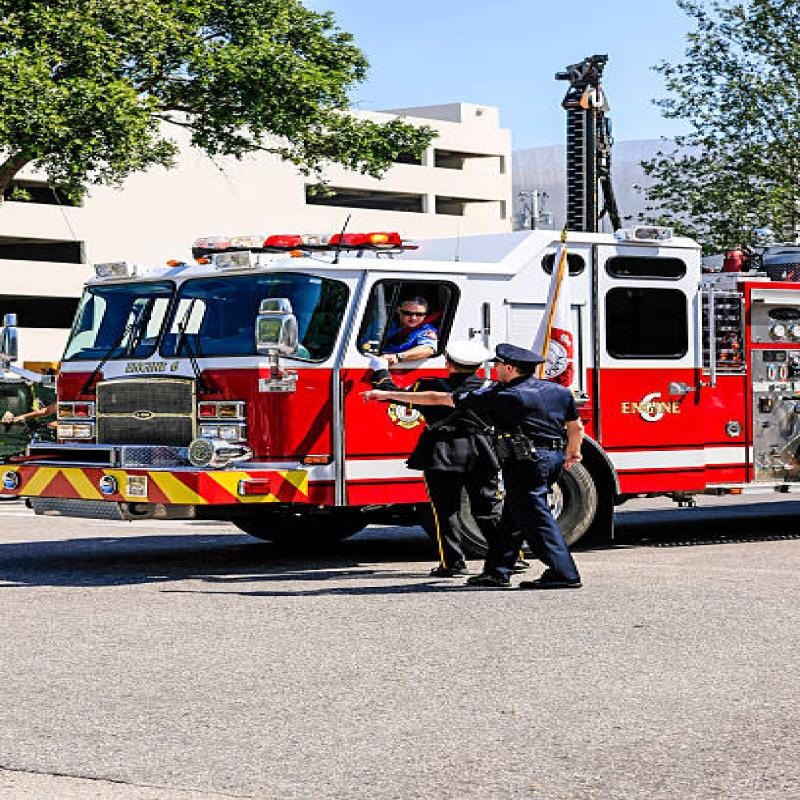AmbulanceSiren: (174, 223, 421, 265)
